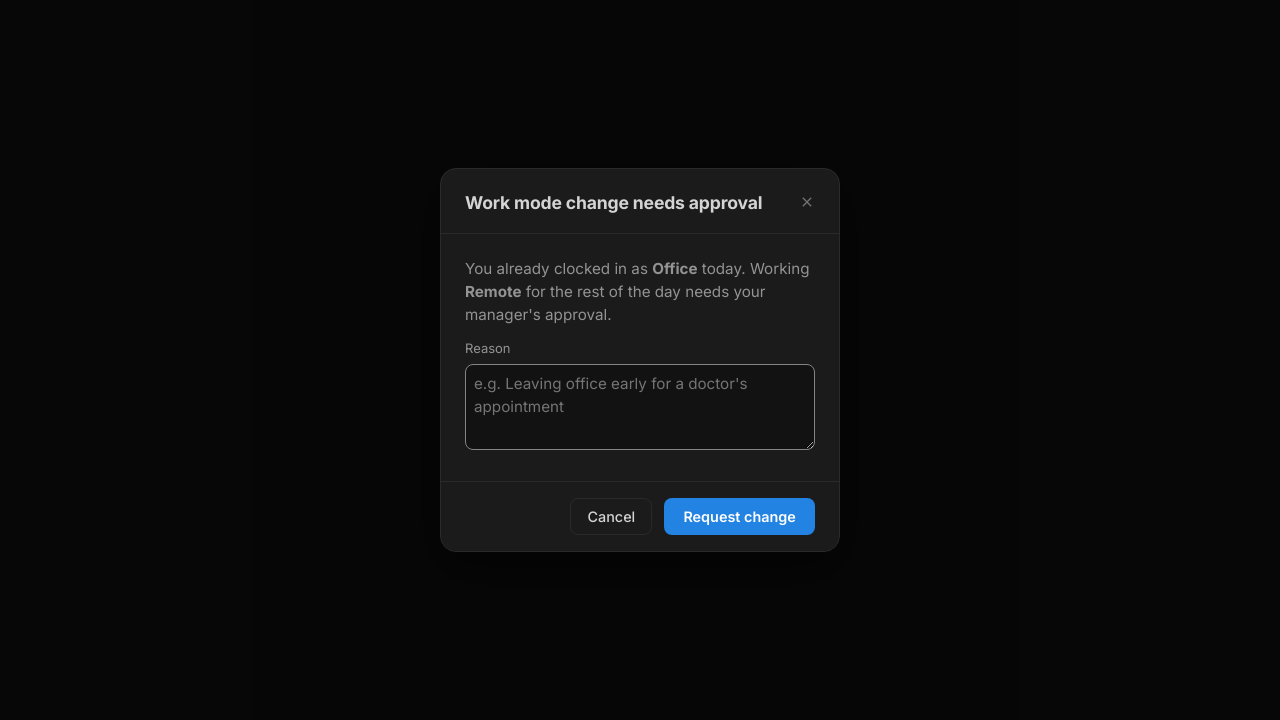
Test case: work-mode lock (web) › a locked clock-in opens the request dialog and sends the request
Check: the heading "Work mode change needs approval" is shown, box [465, 189, 762, 217]
Click the button "Request change" at coordinates (740, 517), box [664, 498, 815, 535]
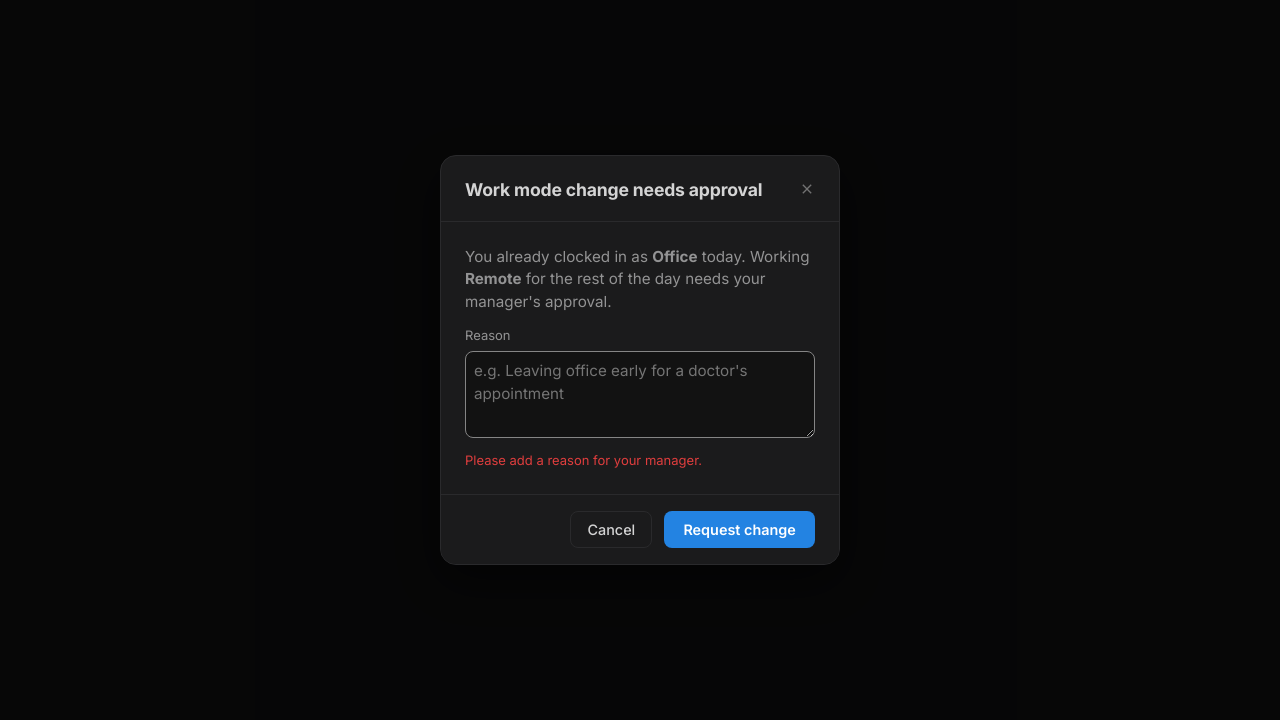
Check: the message shows "reason", box [465, 452, 702, 468]
Type "Doctor visit" into the text box labelled "Reason" at coordinates (640, 395), box [465, 351, 815, 438]
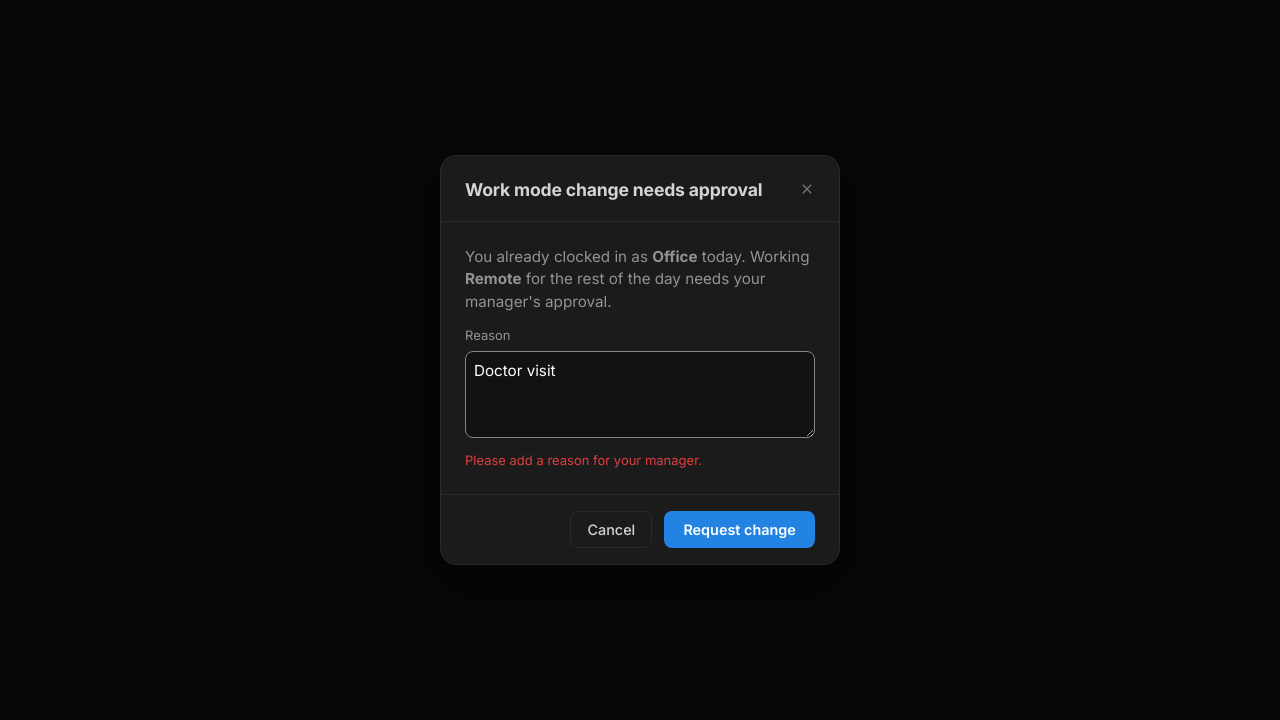
Click the button "Request change" at coordinates (740, 529), box [664, 511, 815, 548]
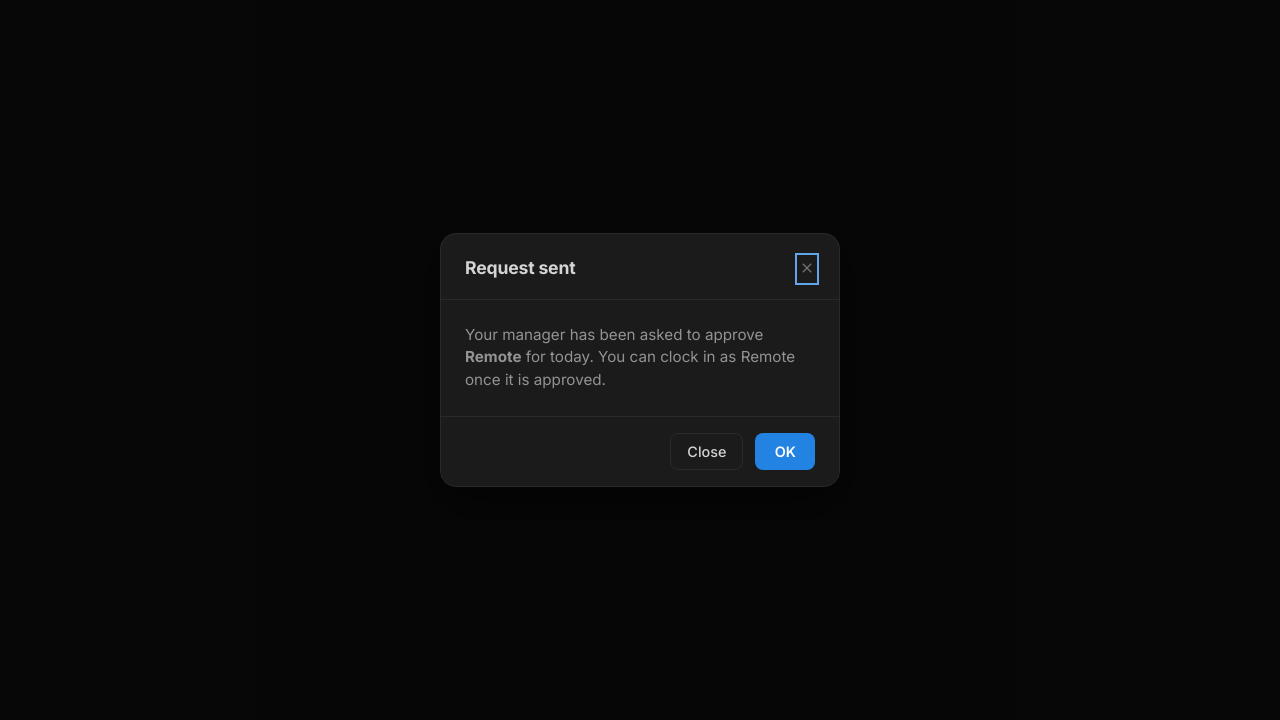
Check: the heading "Request sent" is shown, box [465, 254, 575, 282]
